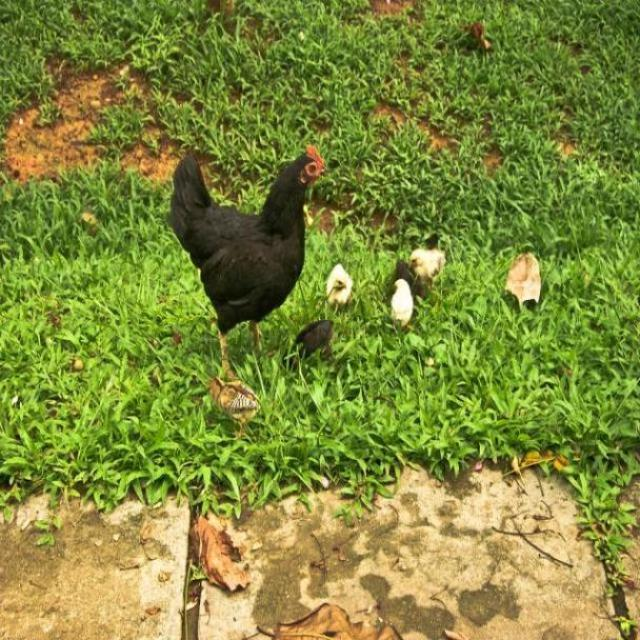Chicken: (165, 141, 331, 379)
